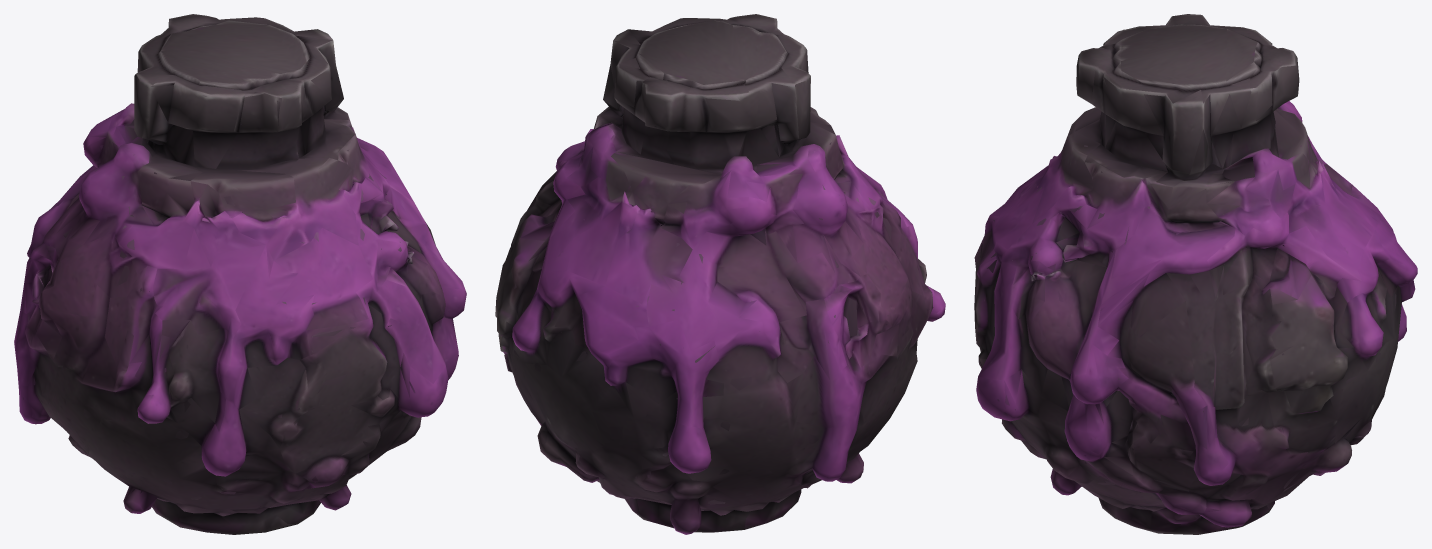
Rendered from SK_GumGrenade.fbx.
The picture shows the model from 3 angles, left to right: view 1: azimuth 30°, elevation 25°; view 2: azimuth 150°, elevation 25°; view 3: azimuth 270°, elevation 25°; orthographic projection.
Parts seen in each view (by area): view 1: SK_GumGrenade; view 2: SK_GumGrenade; view 3: SK_GumGrenade.
Boxes of the visible parts, x1=… form: SK_GumGrenade: x1=14, y1=14, x2=466, y2=534; SK_GumGrenade: x1=495, y1=14, x2=945, y2=534; SK_GumGrenade: x1=974, y1=14, x2=1417, y2=534.
Size of the model in its own units: 25.44 by 28.01 by 25.29.
